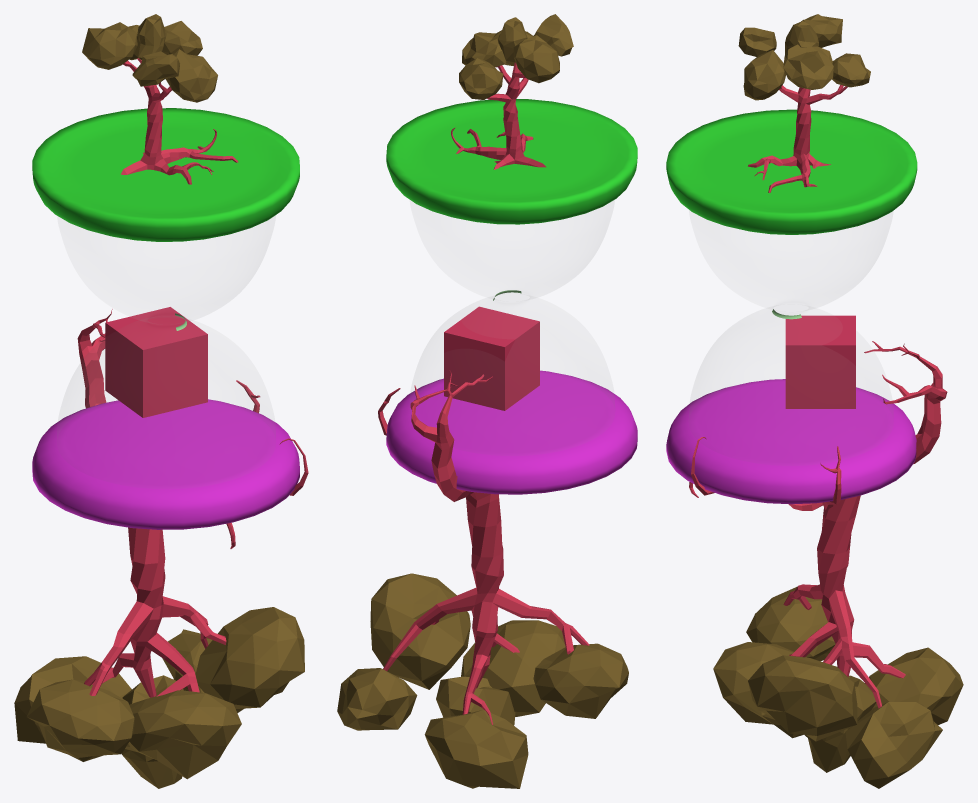
Rendered from hourglass_4.fbx.
3 renders of one model, left to right at view 1: azimuth 30°, elevation 25°; view 2: azimuth 150°, elevation 25°; view 3: azimuth 270°, elevation 25°, orthographic. The views are drawn at different scales.
Visible parts, largest first — view 1: top of hourglass, bottom of hourglass, top tree, Cube, leaves 5, leaves 3, leaves, leaves 1, top tree.001, leaves 1.001, leaves 5.001, leaves 2 (+4 smaller); view 2: bottom of hourglass, top of hourglass, top tree, Cube, leaves 5, leaves 1, leaves, leaves 3, leaves 4, top tree.001, leaves 2, leaves 1.001 (+4 smaller); view 3: bottom of hourglass, top of hourglass, top tree, leaves 5, Cube, leaves 4, leaves 1, leaves, leaves 3, top tree.001, leaves 3.001, leaves 2 (+5 smaller).
Part boxes in pixels (bbox=[...]): top of hourglass: bbox=[32, 399, 299, 529]; bottom of hourglass: bbox=[32, 108, 299, 241]; top tree: bbox=[77, 309, 308, 697]; Cube: bbox=[105, 307, 207, 417]; leaves 5: bbox=[195, 607, 304, 712]; leaves 3: bbox=[125, 690, 241, 779]; leaves: bbox=[26, 679, 134, 757]; leaves 1: bbox=[14, 656, 131, 761]; top tree.001: bbox=[121, 58, 238, 184]; leaves 1.001: bbox=[82, 22, 137, 69]; leaves 5.001: bbox=[165, 49, 217, 102]; leaves 2: bbox=[122, 675, 183, 788]; bottom of hourglass: bbox=[386, 99, 637, 224]; top of hourglass: bbox=[386, 370, 637, 494]; top tree: bbox=[378, 370, 589, 724]; Cube: bbox=[444, 306, 539, 410]; leaves 5: bbox=[370, 573, 470, 689]; leaves 1: bbox=[424, 709, 528, 788]; leaves: bbox=[533, 643, 628, 718]; leaves 3: bbox=[461, 620, 565, 716]; leaves 4: bbox=[337, 668, 417, 730]; top tree.001: bbox=[451, 62, 546, 169]; leaves 2: bbox=[436, 676, 515, 725]; leaves 1.001: bbox=[513, 35, 559, 83]; bottom of hourglass: bbox=[666, 109, 917, 234]; top of hourglass: bbox=[666, 379, 916, 504]; top tree: bbox=[689, 341, 947, 708]; leaves 5: bbox=[748, 655, 857, 741]; Cube: bbox=[785, 315, 855, 408]; leaves 4: bbox=[845, 702, 942, 788]; leaves 1: bbox=[865, 647, 963, 724]; leaves: bbox=[746, 587, 835, 661]; leaves 3: bbox=[713, 642, 807, 738]; top tree.001: bbox=[748, 85, 847, 192]; leaves 3.001: bbox=[783, 44, 833, 89]; leaves 2: bbox=[804, 675, 876, 772].
Bounding box in the file's own units: 269 × 757 × 279.
